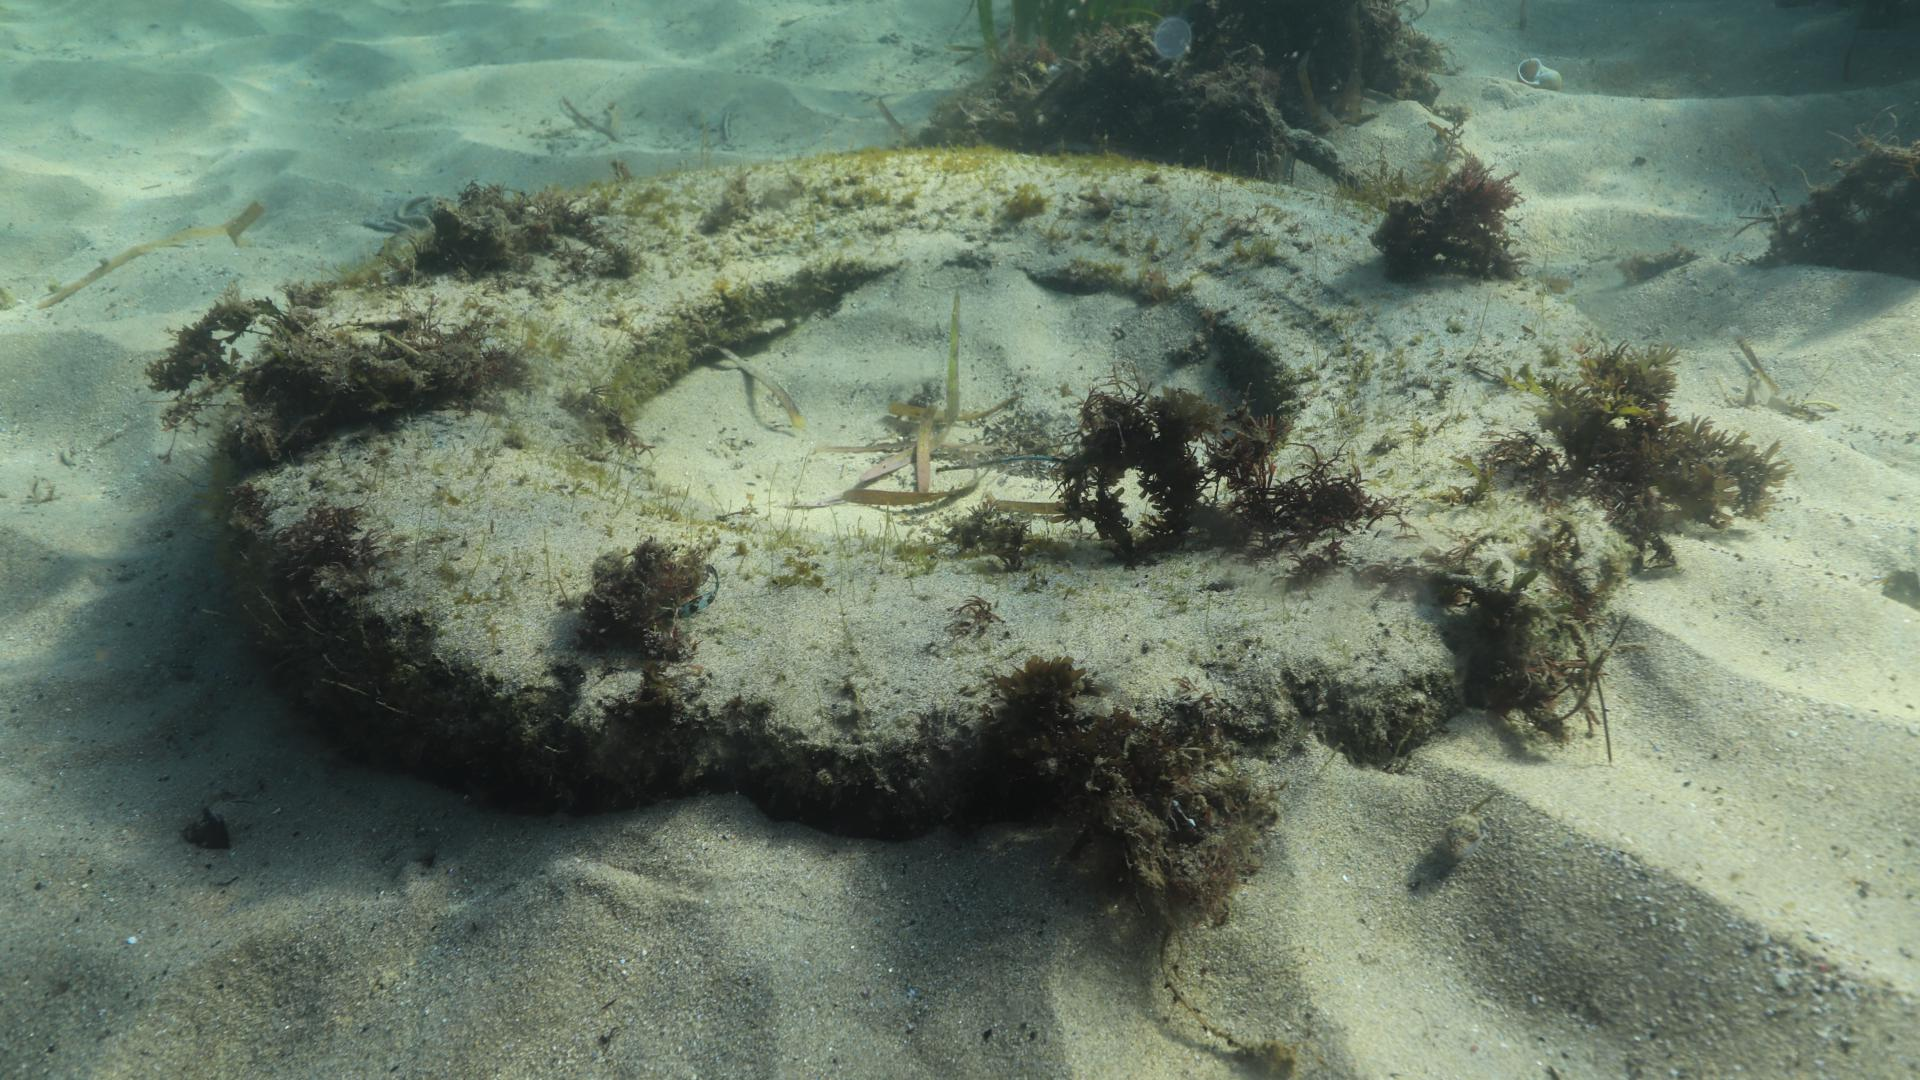tire: (231, 145, 1629, 835)
